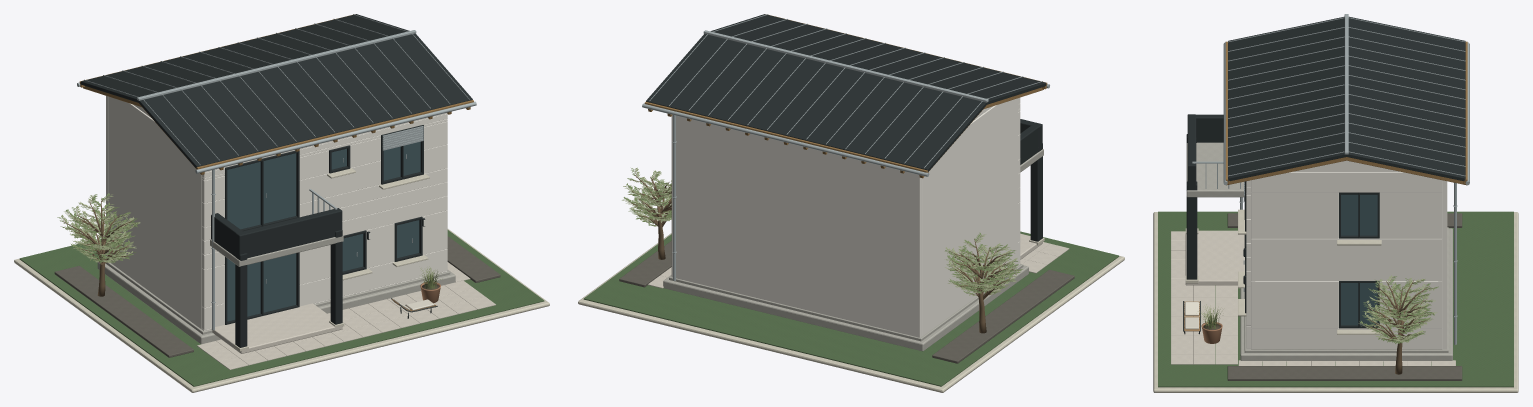
File: villetta-B6oyy2Lc.glb
3 views of the same model, side by side, from view 1: azimuth 30°, elevation 25°; view 2: azimuth 150°, elevation 25°; view 3: azimuth 270°, elevation 25° (orthographic). The views are drawn at different scales.
Visible parts, largest first — view 1: phase_envelope__graphite, phase_envelope__plaster, phase_finish__glass, phase_site__grass, phase_finish__paving, phase_details__metal, phase_finish__soil, phase_site__limestone, phase_finish__graphite, phase_foundation__concrete, phase_foundation__paving, phase_structure__graphite (+7 smaller); view 2: phase_envelope__plaster, phase_envelope__graphite, phase_site__grass, phase_details__metal, phase_foundation__concrete, phase_finish__soil, phase_site__limestone, phase_details__HF_olive_leaf_silver.001, phase_details__HF_olive_foliage.001, phase_details__HF_olive_bark.001, phase_finish__oak, phase_structure__graphite (+2 smaller); view 3: phase_envelope__graphite, phase_envelope__plaster, phase_site__grass, phase_details__metal, phase_finish__paving, phase_site__limestone, phase_finish__soil, phase_foundation__concrete, phase_finish__glass, phase_foundation__paving, phase_structure__concrete, phase_details__HF_olive_foliage.001 (+8 smaller).
Boxes of the visible parts, left/top/right/bottom form: phase_envelope__graphite: left=80, top=14, right=472, bottom=259; phase_envelope__plaster: left=106, top=96, right=447, bottom=330; phase_finish__glass: left=227, top=141, right=420, bottom=321; phase_site__grass: left=19, top=230, right=544, bottom=386; phase_finish__paving: left=197, top=262, right=495, bottom=369; phase_details__metal: left=77, top=14, right=476, bottom=330; phase_finish__soil: left=54, top=236, right=500, bottom=357; phase_site__limestone: left=14, top=229, right=549, bottom=392; phase_finish__graphite: left=225, top=125, right=423, bottom=324; phase_foundation__concrete: left=97, top=262, right=455, bottom=344; phase_foundation__paving: left=211, top=303, right=342, bottom=353; phase_structure__graphite: left=235, top=230, right=342, bottom=347; phase_envelope__plaster: left=671, top=97, right=1020, bottom=337; phase_envelope__graphite: left=646, top=14, right=1046, bottom=171; phase_site__grass: left=583, top=231, right=1119, bottom=386; phase_details__metal: left=642, top=14, right=1049, bottom=280; phase_foundation__concrete: left=663, top=264, right=1028, bottom=351; phase_finish__soil: left=619, top=241, right=1074, bottom=363; phase_site__limestone: left=578, top=233, right=1124, bottom=392; phase_details__HF_olive_leaf_silver.001: left=622, top=167, right=1019, bottom=295; phase_details__HF_olive_foliage.001: left=623, top=168, right=1022, bottom=294; phase_details__HF_olive_bark.001: left=628, top=169, right=1018, bottom=333; phase_finish__oak: left=644, top=14, right=1047, bottom=172; phase_structure__graphite: left=1030, top=143, right=1042, bottom=241; phase_envelope__graphite: left=1187, top=16, right=1465, bottom=190; phase_envelope__plaster: left=1246, top=160, right=1447, bottom=349; phase_site__grass: left=1158, top=211, right=1513, bottom=387; phase_details__metal: left=1223, top=14, right=1469, bottom=344; phase_finish__paving: left=1171, top=231, right=1455, bottom=365; phase_site__limestone: left=1153, top=212, right=1518, bottom=392; phase_finish__soil: left=1227, top=213, right=1462, bottom=380; phase_foundation__concrete: left=1240, top=227, right=1452, bottom=361; phase_finish__glass: left=1341, top=194, right=1377, bottom=325; phase_foundation__paving: left=1185, top=230, right=1244, bottom=285; phase_structure__concrete: left=1186, top=142, right=1244, bottom=197; phase_details__HF_olive_foliage.001: left=1359, top=276, right=1438, bottom=343.
Size of the model in its own units: 12.44 by 6.82 by 10.2.
20 materials, 6 textured.
